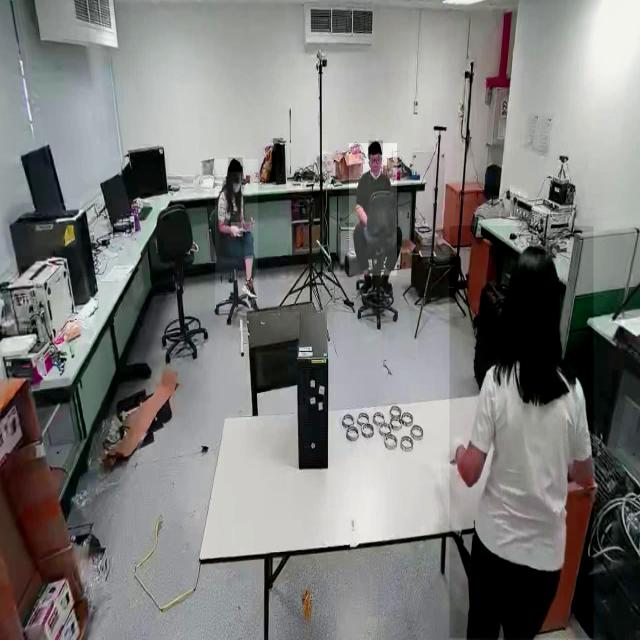face_mask: (232, 177, 246, 195)
face_nomask: (369, 154, 383, 174)
hand_noglove: (231, 222, 243, 238), (241, 218, 251, 231)
head_nohelmet: (510, 243, 560, 284), (227, 158, 243, 172), (368, 140, 383, 154)
person: (449, 226, 593, 639), (214, 159, 258, 317), (349, 143, 397, 277)
shoes: (358, 270, 376, 299), (242, 271, 258, 301), (379, 271, 395, 299)
